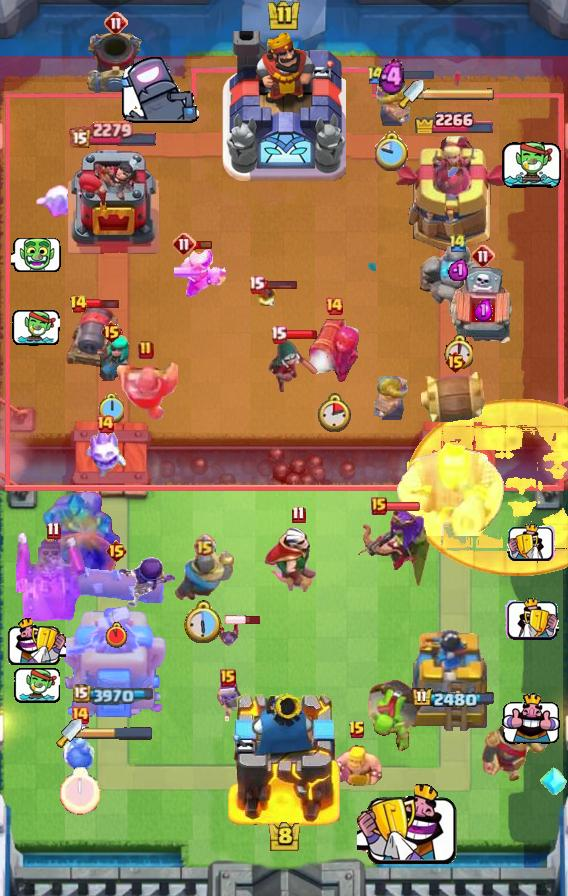bandit: (267, 338, 319, 394)
bar: (383, 69, 435, 81), (85, 297, 120, 310), (225, 614, 262, 626), (385, 501, 421, 512), (263, 279, 298, 290), (284, 329, 318, 340), (193, 239, 213, 250)
bar-level: (471, 244, 495, 268), (172, 232, 196, 256), (104, 11, 128, 35), (105, 539, 128, 563), (444, 350, 467, 374), (100, 320, 123, 344), (193, 534, 216, 557), (448, 232, 468, 253), (366, 64, 386, 85), (70, 705, 90, 725), (95, 414, 115, 434), (324, 296, 344, 316), (69, 294, 88, 314), (348, 720, 366, 740), (270, 325, 287, 344), (248, 275, 265, 294), (138, 340, 154, 360), (220, 669, 236, 687), (371, 497, 387, 515), (46, 521, 61, 540), (291, 505, 306, 524)
barbarian: (329, 741, 385, 793)
barbarian-barrel: (418, 371, 492, 423)
barbarian-evolution: (174, 246, 228, 300)
bat: (216, 623, 240, 649)
bomber: (62, 720, 98, 772)
bomber-evolution: (118, 554, 178, 610)
clock: (60, 767, 101, 815), (184, 600, 224, 644), (375, 131, 410, 171), (317, 393, 351, 432), (443, 334, 473, 369), (98, 393, 124, 423), (106, 622, 127, 648)
dagger-duchess-tower: (391, 132, 515, 256), (60, 607, 168, 731)
dagger-duchess-tower-bar: (82, 726, 154, 740), (424, 87, 496, 101)
elite-barbarian: (374, 374, 410, 421), (374, 80, 410, 127)
elixir: (379, 59, 405, 96), (448, 258, 468, 281), (474, 298, 493, 322)
emote: (357, 783, 458, 864), (122, 57, 202, 126), (502, 693, 560, 745), (501, 141, 561, 189), (7, 618, 66, 665), (504, 598, 559, 641), (11, 236, 62, 274), (507, 524, 556, 562), (12, 308, 60, 346), (13, 667, 60, 705)
fire-spirit: (257, 285, 277, 307)
firecracker-evolution: (305, 305, 363, 385)
goblin-ball: (365, 675, 425, 751)
golemite: (420, 246, 496, 324)
ice-spirit-evolution: (83, 425, 127, 479), (34, 185, 84, 223)
ice-spirit-evolution-symbol: (540, 764, 568, 798)
king-tower: (222, 31, 346, 181), (227, 688, 342, 826)
knight: (481, 723, 557, 782), (114, 358, 178, 424), (172, 547, 236, 603)
mortar: (85, 29, 147, 97)
queen-tower: (403, 621, 503, 731), (64, 146, 164, 256)
rascal-girl: (90, 333, 132, 381)
skeleton-evolution: (213, 678, 243, 724)
the-log: (65, 567, 167, 603)
tower-bar: (69, 120, 159, 148), (412, 106, 494, 133), (411, 687, 496, 710), (73, 684, 156, 705)
